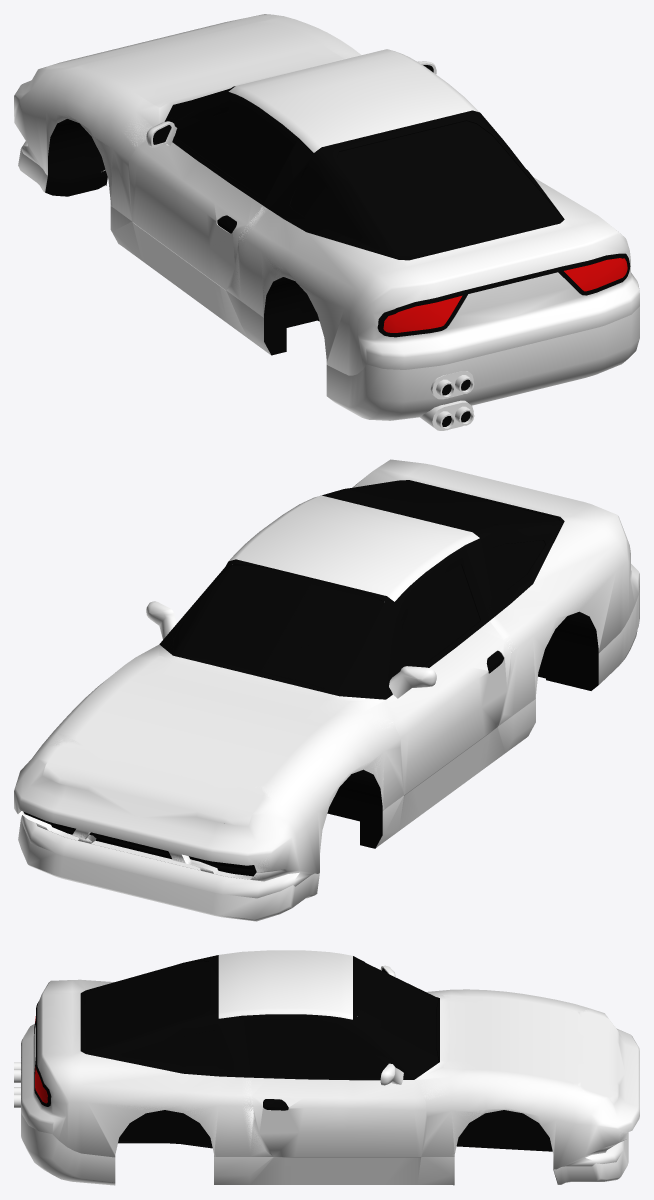
File: NISSAN-180SX (2X-FACES).fbx
The picture shows the model from 3 angles, top to bottom: view 1: azimuth 30°, elevation 25°; view 2: azimuth 150°, elevation 25°; view 3: azimuth 270°, elevation 25°; orthographic projection. The views are drawn at different scales.
Visible parts, largest first — view 1: BODY STOCK, BODY WIDEBOI, L-DOOR, HOOD, TAILLIGHTS GLASS, TAILLIGHTS, HEADLIGHTS; view 2: BODY STOCK, HOOD, L-DOOR, BODY WIDEBOI, HEADLIGHTS, R-DOOR; view 3: BODY STOCK, R-DOOR, BODY WIDEBOI, HOOD, HEADLIGHTS, TAILLIGHTS.
Boxes of the visible parts, x1=… form: BODY STOCK: x1=14, y1=14, x2=639, y2=399; BODY WIDEBOI: x1=18, y1=149, x2=639, y2=430; L-DOOR: x1=128, y1=105, x2=293, y2=290; HOOD: x1=76, y1=21, x2=344, y2=108; TAILLIGHTS GLASS: x1=383, y1=258, x2=627, y2=332; TAILLIGHTS: x1=377, y1=253, x2=630, y2=337; HEADLIGHTS: x1=46, y1=16, x2=263, y2=67; BODY STOCK: x1=14, y1=459, x2=639, y2=898; HOOD: x1=76, y1=655, x2=348, y2=794; L-DOOR: x1=386, y1=555, x2=510, y2=795; BODY WIDEBOI: x1=18, y1=588, x2=639, y2=921; HEADLIGHTS: x1=42, y1=743, x2=264, y2=826; R-DOOR: x1=146, y1=601, x2=176, y2=639; BODY STOCK: x1=14, y1=950, x2=639, y2=1169; R-DOOR: x1=245, y1=1021, x2=427, y2=1157; BODY WIDEBOI: x1=14, y1=1087, x2=628, y2=1185; HOOD: x1=442, y1=995, x2=602, y2=1083; HEADLIGHTS: x1=581, y1=1012, x2=619, y2=1103; TAILLIGHTS: x1=34, y1=1001, x2=51, y2=1106.
Bounding box in the file's own units: 381 × 258 × 913.
